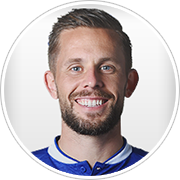smile: (72, 94, 105, 109)
